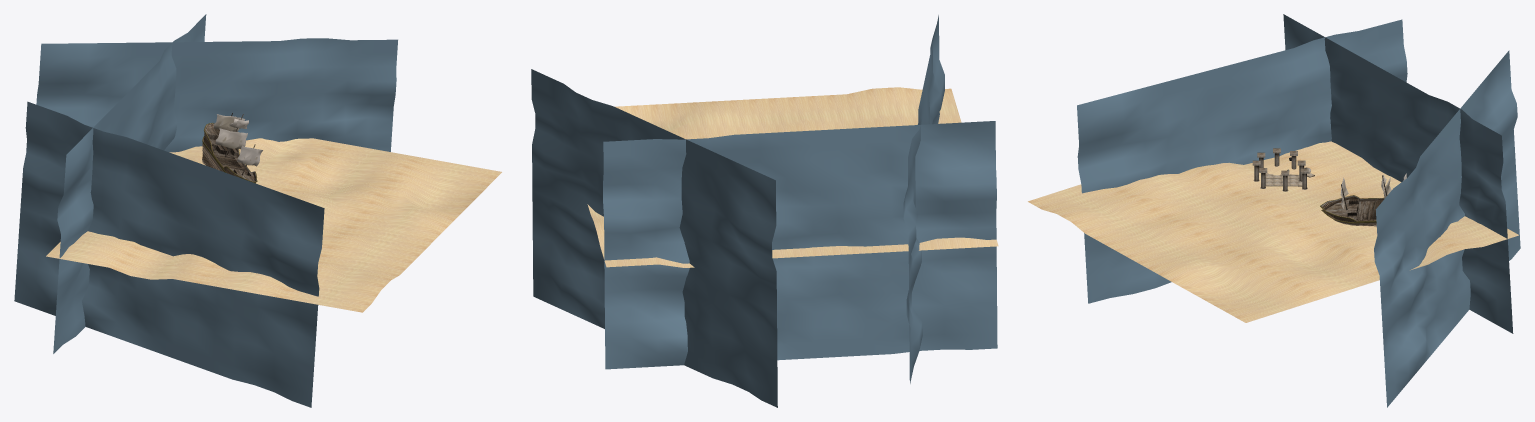
File: AtlantisScene.fbx
The picture shows the model from 3 angles, left to right: view 1: azimuth 30°, elevation 25°; view 2: azimuth 150°, elevation 25°; view 3: azimuth 270°, elevation 25°; orthographic projection. The views are drawn at different scales.
Visible parts, largest first — view 1: pPlane17, pPlane18, pPlane15, pPlane16, pirateship:pCube9, pirateship:polySurface3, pirateship:polySurface8; view 2: pPlane16, pPlane18, pPlane15, pPlane17; view 3: pPlane15, pPlane17, pPlane18, pPlane16, pirateship:polySurface3, pirateship:polySurface8.
Boxes of the visible parts, left/top/right/bottom form: pPlane17: left=14, top=101, right=324, bottom=407; pPlane18: left=36, top=38, right=397, bottom=152; pPlane15: left=46, top=138, right=501, bottom=312; pPlane16: left=53, top=14, right=206, bottom=353; pirateship:pCube9: left=213, top=114, right=262, bottom=166; pirateship:polySurface3: left=205, top=127, right=254, bottom=181; pirateship:polySurface8: left=202, top=123, right=256, bottom=181; pPlane16: left=603, top=121, right=997, bottom=369; pPlane18: left=531, top=69, right=777, bottom=407; pPlane15: left=587, top=87, right=998, bottom=267; pPlane17: left=903, top=15, right=944, bottom=383; pPlane15: left=1028, top=141, right=1518, bottom=322; pPlane17: left=1077, top=19, right=1407, bottom=303; pPlane18: left=1374, top=50, right=1520, bottom=407; pPlane16: left=1283, top=14, right=1513, bottom=333; pirateship:polySurface3: left=1326, top=199, right=1382, bottom=220; pirateship:polySurface8: left=1321, top=195, right=1384, bottom=226.
Bounding box in the file's own units: 285 × 143 × 284.
